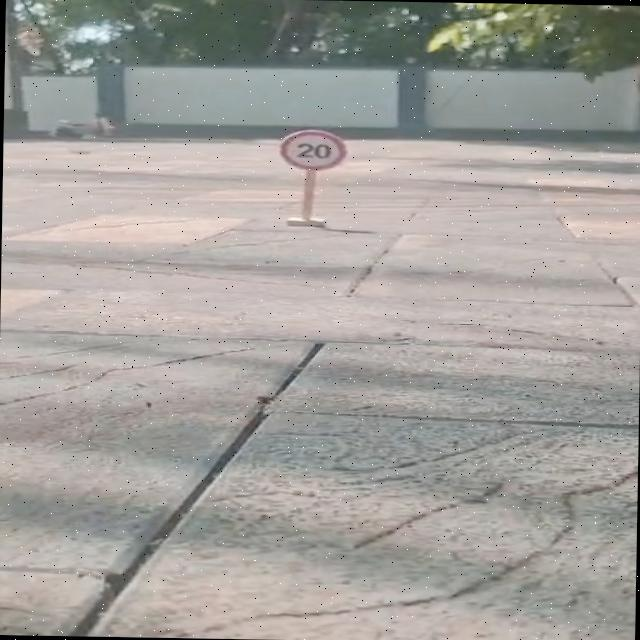Speed20: (266, 123, 358, 174)
